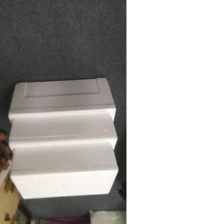foam_box: (6, 139, 123, 203), (4, 73, 119, 130), (3, 110, 121, 156)
